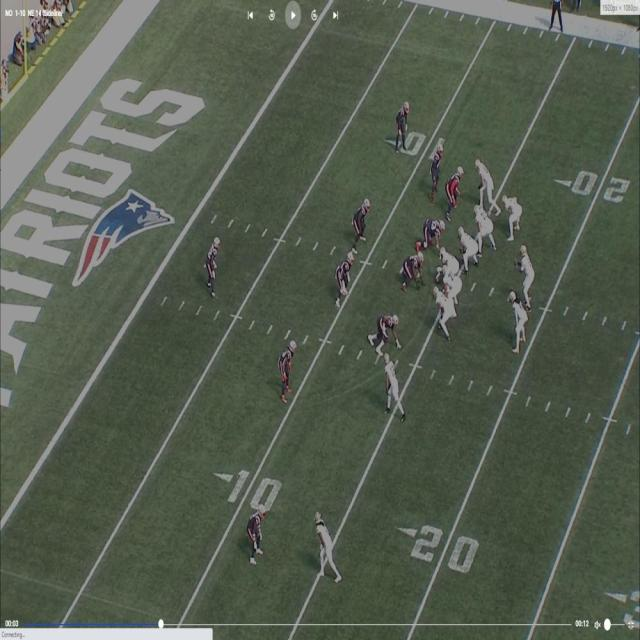center: (438, 245, 461, 279)
db: (280, 342, 298, 402), (249, 504, 267, 559), (429, 135, 445, 190), (207, 234, 221, 291), (395, 101, 409, 147)
lb: (334, 253, 354, 310), (445, 168, 465, 215), (353, 197, 371, 247)
qb: (519, 245, 533, 305)
skill: (314, 514, 336, 576), (388, 354, 404, 415), (508, 291, 524, 347), (504, 192, 522, 241), (475, 159, 491, 207)
